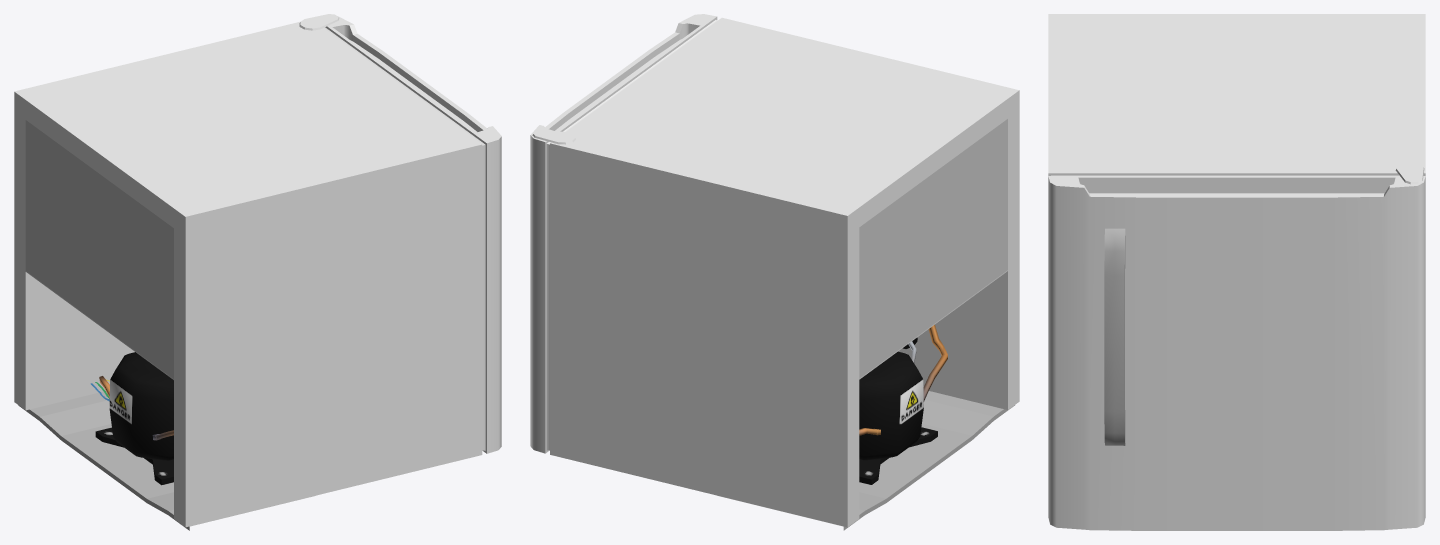
The model's file is Mini_Fridge.fbx.
3 renders of one model, left to right at view 1: azimuth 30°, elevation 25°; view 2: azimuth 150°, elevation 25°; view 3: azimuth 270°, elevation 25°, orthographic. The views are drawn at different scales.
Parts seen in each view (by area): view 1: Cube, Cube.001; view 2: Cube, Cube.001; view 3: Cube.001, Cube.
Boxes of the visible parts, x1,y1,x2,y2 form: Cube: (14, 14, 482, 530); Cube.001: (323, 16, 501, 453); Cube: (532, 17, 1019, 530); Cube.001: (530, 14, 717, 453); Cube.001: (1048, 175, 1425, 530); Cube: (1048, 14, 1425, 184).
Bounding box in the file's own units: 229 × 207 × 200.
